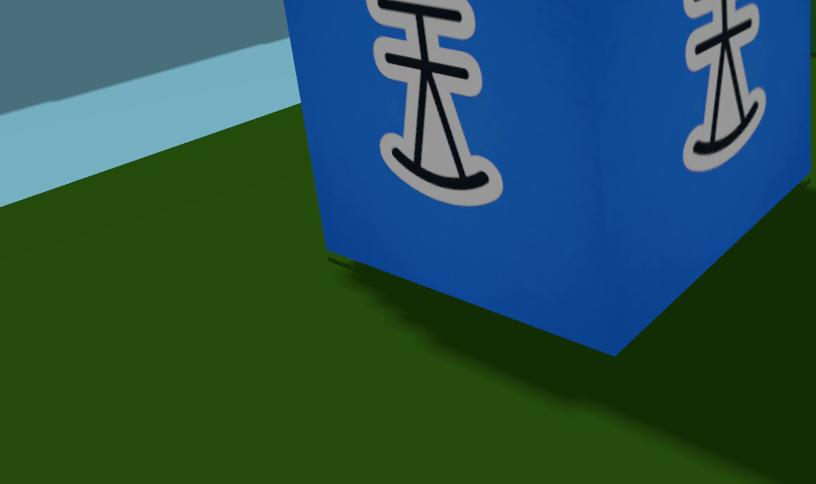KFS_REAL: (283, 0, 810, 352), (366, 0, 502, 206), (682, 0, 765, 171), (492, 201, 493, 206)
